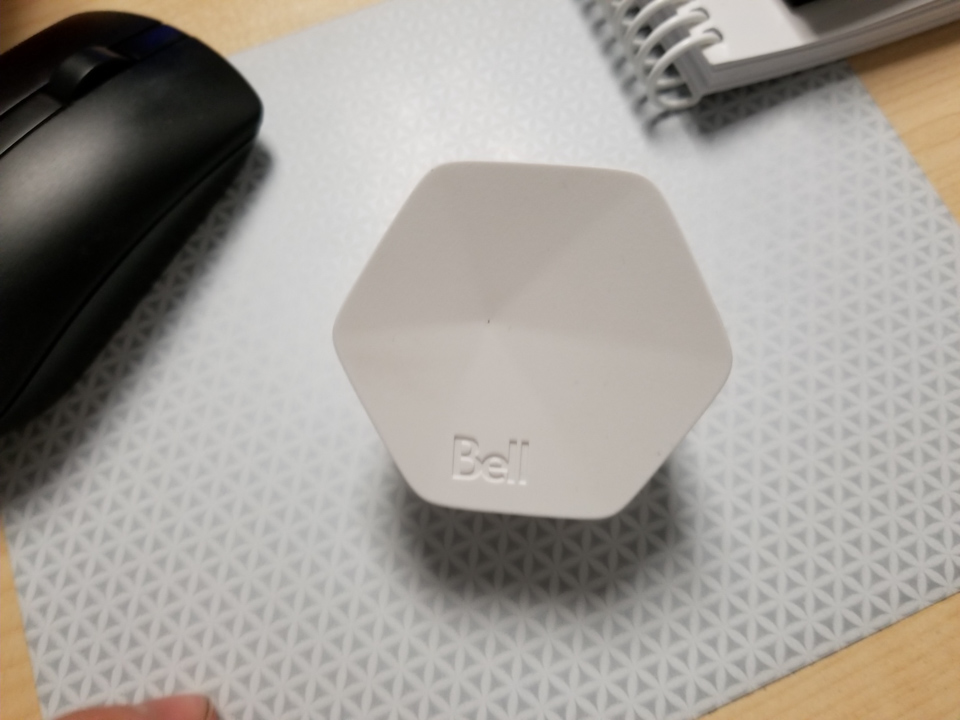pod: (320, 153, 754, 525)
